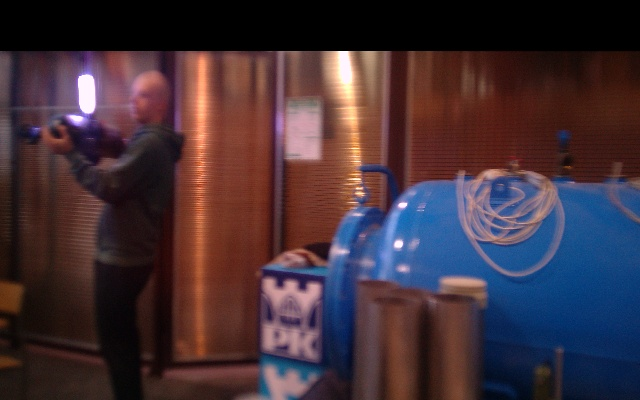white: (78, 75, 96, 116)
